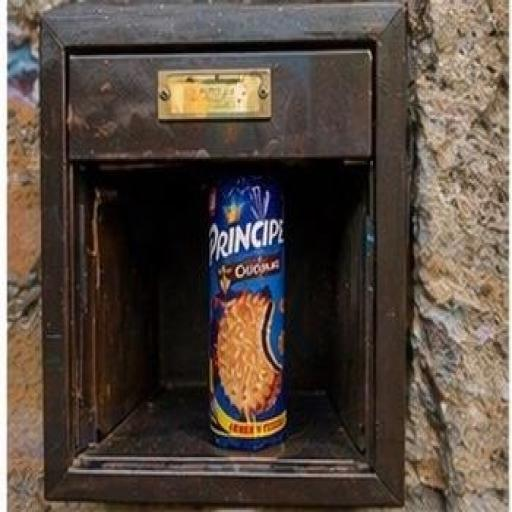prince: (115, 99, 380, 512)
